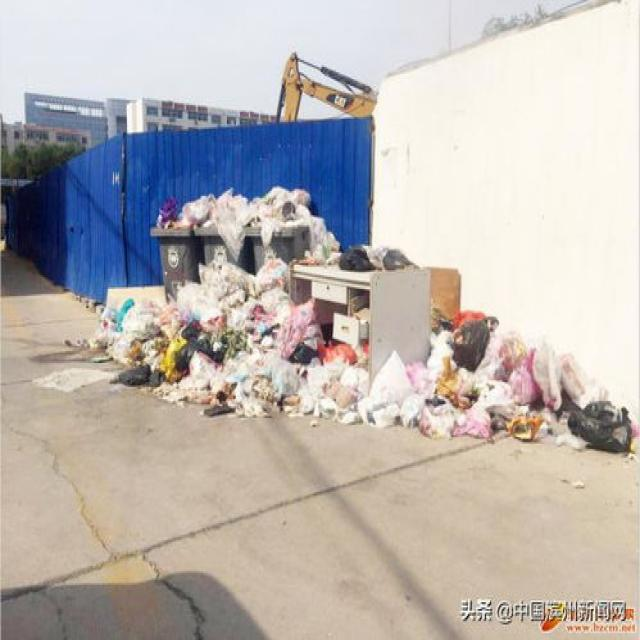garbage: (58, 241, 637, 459)
overflow: (243, 184, 309, 267), (192, 186, 252, 272), (148, 191, 194, 301)
